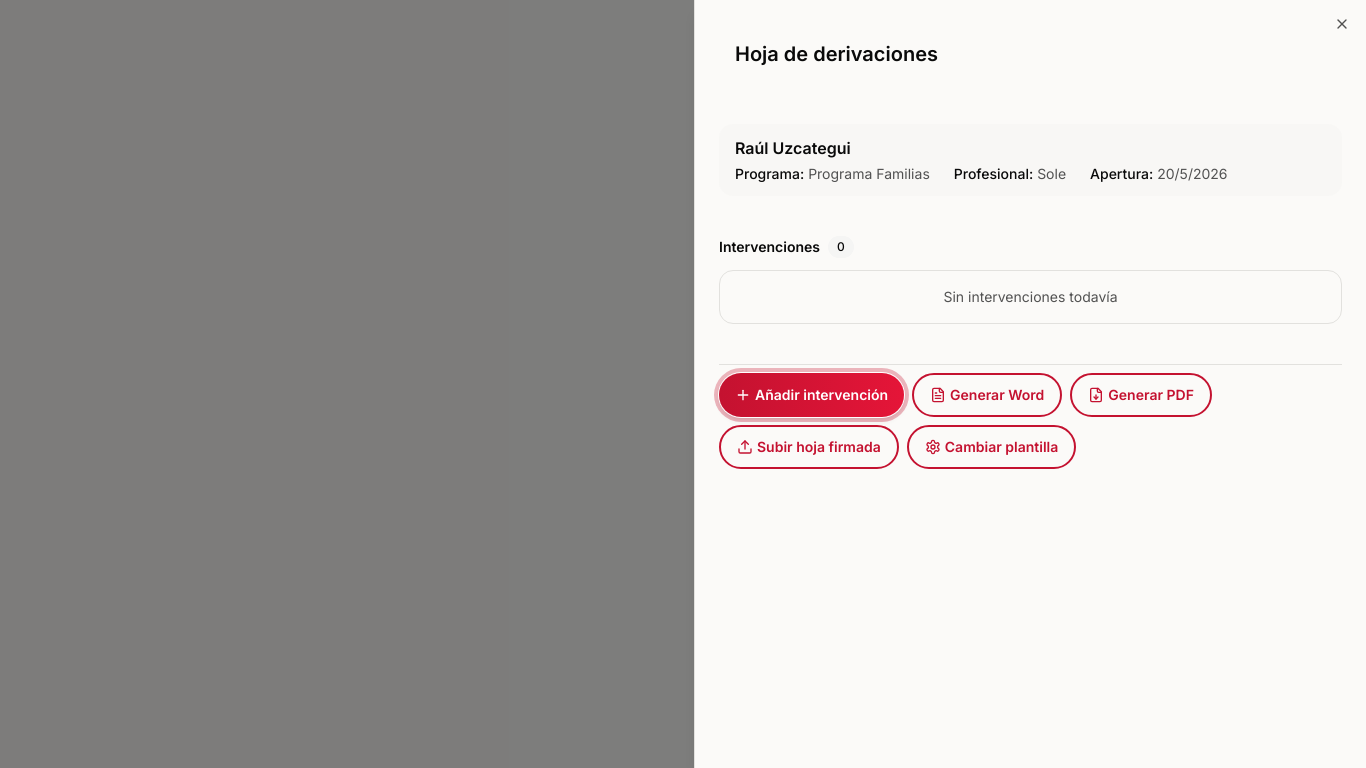
Scenario: HojaDrawer — template management modal › lists available templates in the modal
This screenshot has width=1366, height=768.
Click the button "Cambiar plantilla" at (992,447), box [907,425,1076,469]
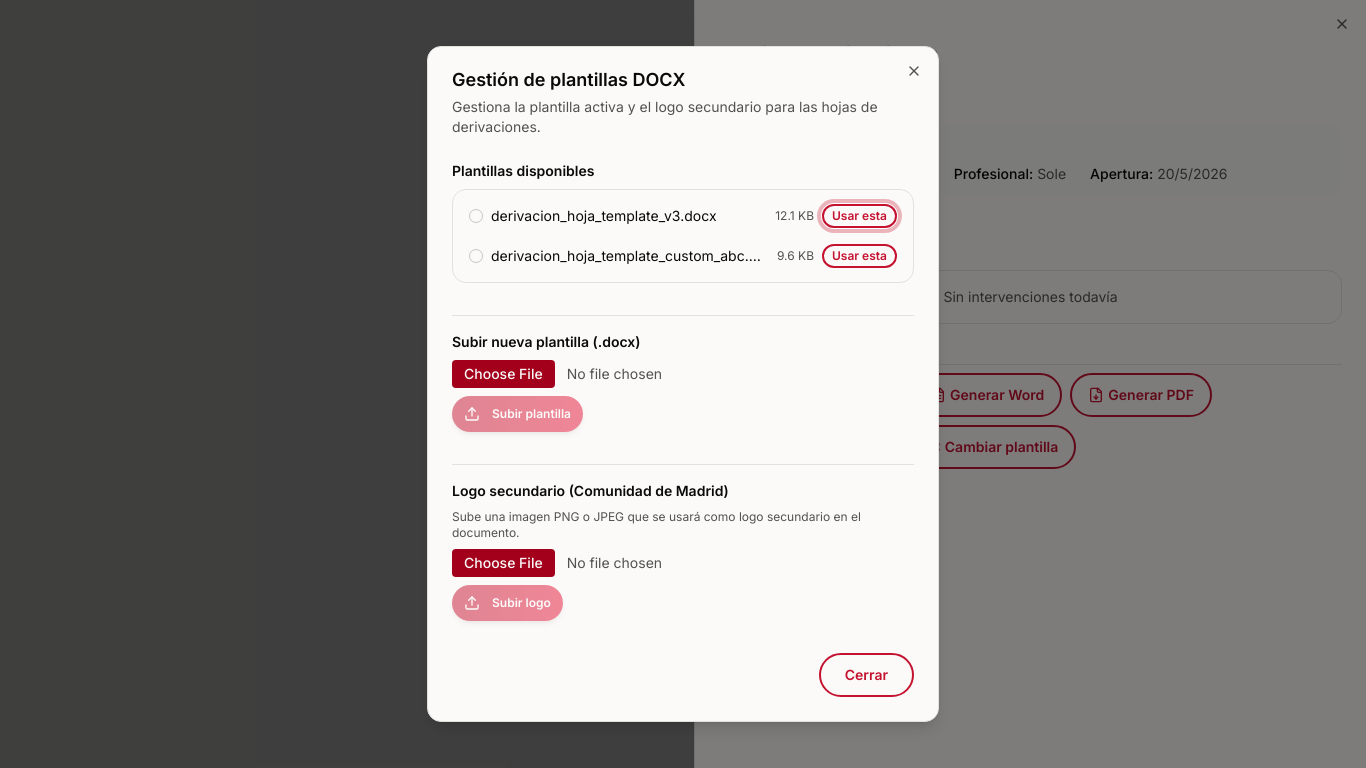
Expected: the text "derivacion_hoja_template_v3.docx" is shown, [491,206,716,226]
Expected: the text "derivacion_hoja_template_custom_abc.docx" is shown, [491,246,769,266]
